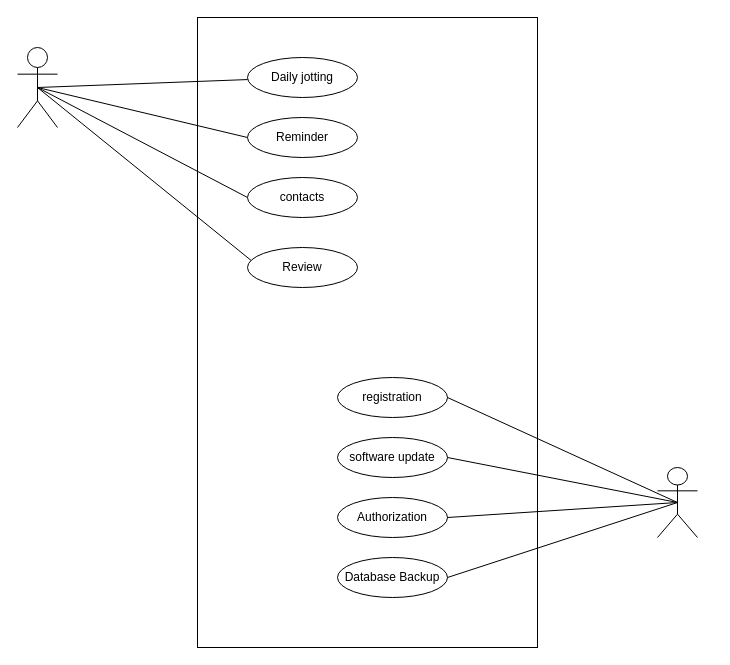
Some shapes in this 730 by 665 pixel diagram are drawn without their labels. The shapes that lost their labels are listed below. From the top down, each one's centre as x and y in pixels, then its label:
the point at 37,87: Writer
the point at 677,502: Administrator
